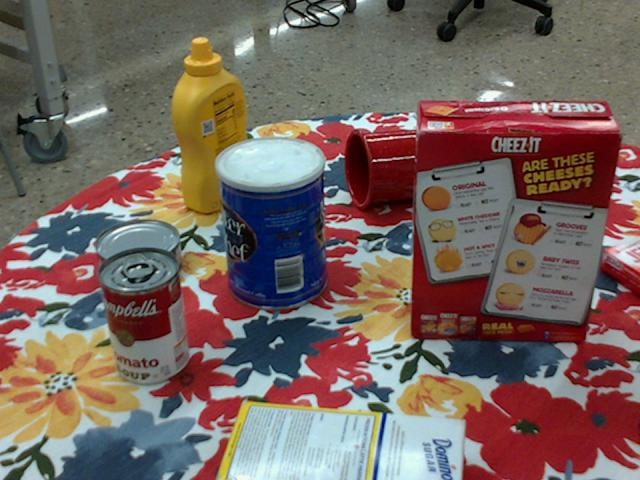cracker_box: (409, 101, 623, 344)
gelatin_box: (600, 236, 639, 295)
large_marker: (504, 165, 604, 205)
master_chef_can: (216, 135, 326, 310)
mug: (344, 129, 435, 211)
mustard_bottle: (174, 39, 255, 214)
sugar_box: (213, 402, 466, 479)
tomato_soup_can: (98, 246, 189, 384)
tuna_fish_can: (97, 218, 183, 287)
